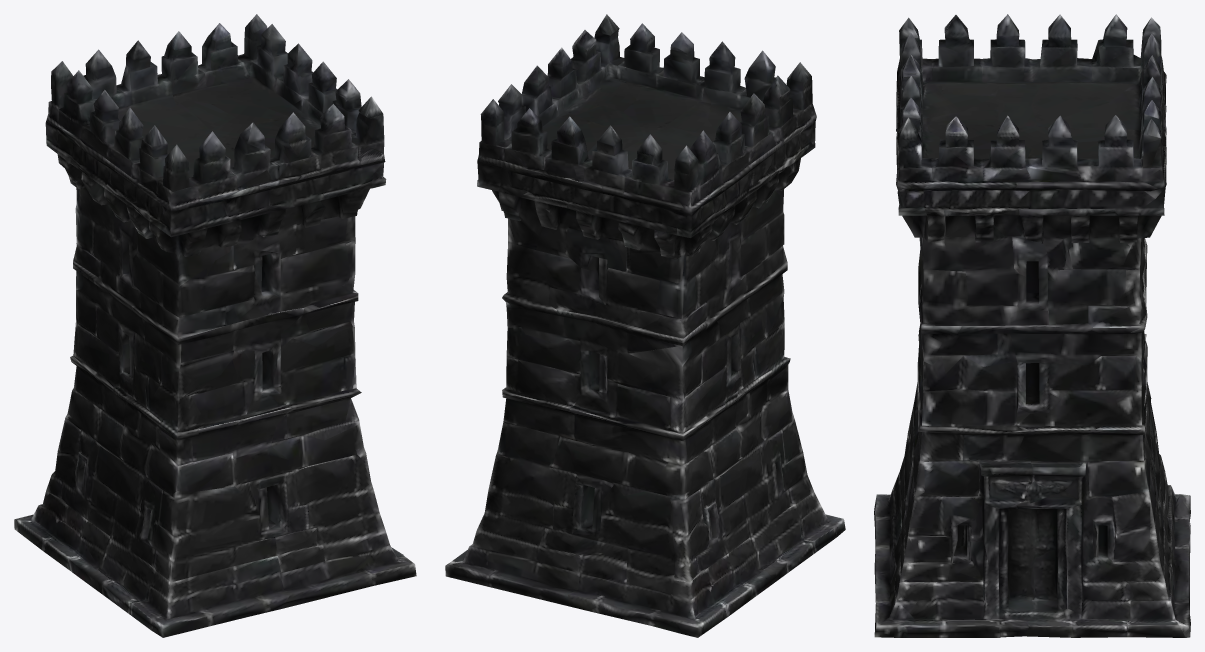
Rendered from castle_tower_medium_diamond_black.glb.
3 views of the same model, side by side, from view 1: azimuth 30°, elevation 25°; view 2: azimuth 150°, elevation 25°; view 3: azimuth 270°, elevation 25° (orthographic). The views are drawn at different scales.
Parts seen in each view (by area): view 1: tripo_node_358d9bbd-f198-4ac2-99a3-39ac19134ba0; view 2: tripo_node_358d9bbd-f198-4ac2-99a3-39ac19134ba0; view 3: tripo_node_358d9bbd-f198-4ac2-99a3-39ac19134ba0.
Part boxes in pixels (<box>): tripo_node_358d9bbd-f198-4ac2-99a3-39ac19134ba0: <box>14,14,416,637</box>; tripo_node_358d9bbd-f198-4ac2-99a3-39ac19134ba0: <box>445,14,845,637</box>; tripo_node_358d9bbd-f198-4ac2-99a3-39ac19134ba0: <box>874,14,1190,637</box>.
Size of the model in its own units: 0.553 by 0.9811 by 0.555.
1 material, 1 textured.
